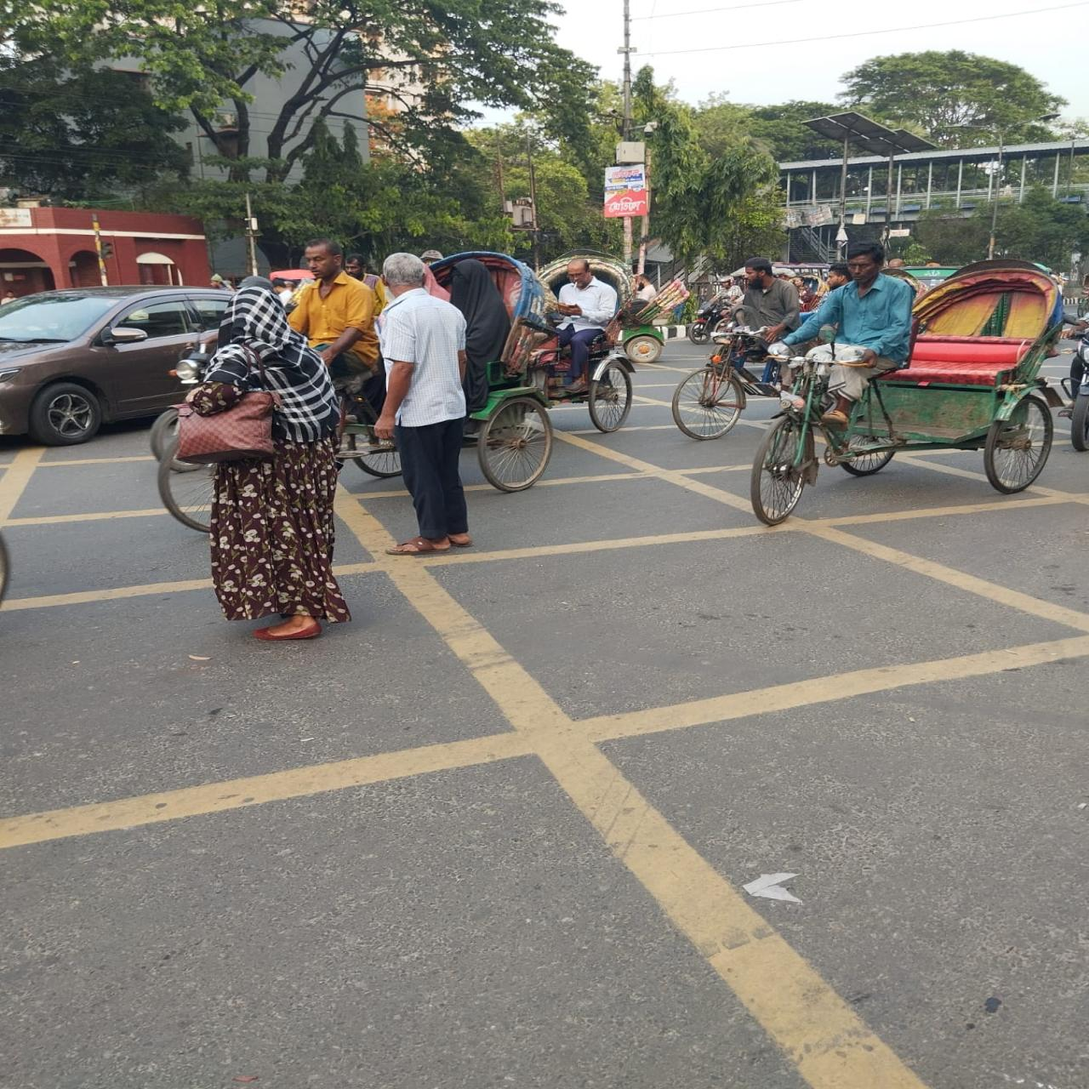person: (164, 286, 355, 645), (354, 253, 485, 560)
